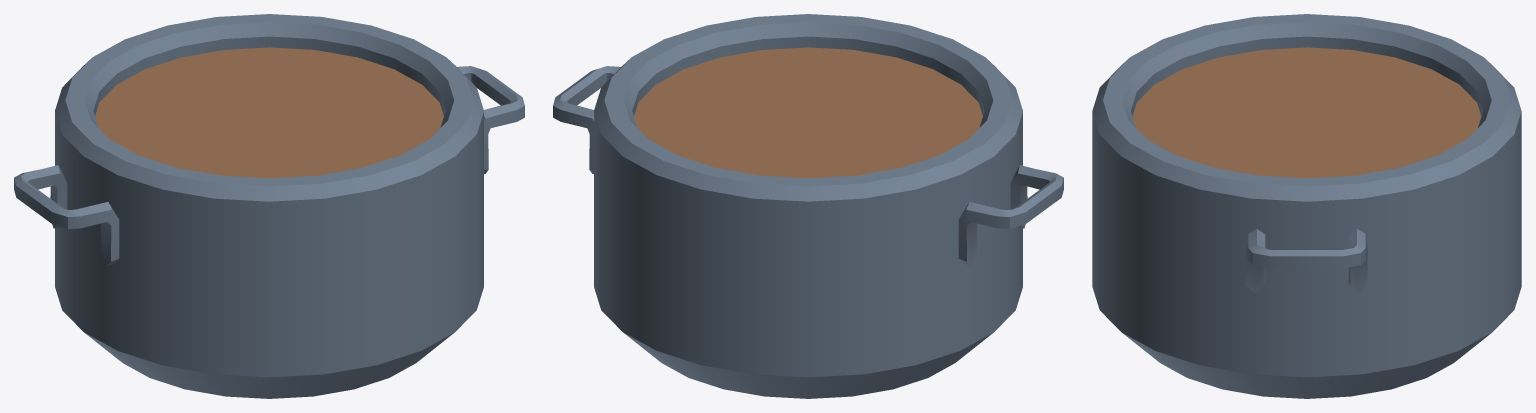
File: pot1.glb
3 views of the same model, side by side, from view 1: azimuth 30°, elevation 25°; view 2: azimuth 150°, elevation 25°; view 3: azimuth 270°, elevation 25° (orthographic).
Visible parts, largest first — view 1: Environment_Pot_1_Filled; view 2: Environment_Pot_1_Filled; view 3: Environment_Pot_1_Filled.
Boxes of the visible parts, x1,y1,x2,y2 form: Environment_Pot_1_Filled: (14,14,524,398); Environment_Pot_1_Filled: (553,14,1063,398); Environment_Pot_1_Filled: (1092,14,1521,398).
Bounding box in the file's own units: 1.58 × 0.7309 × 1.25.
